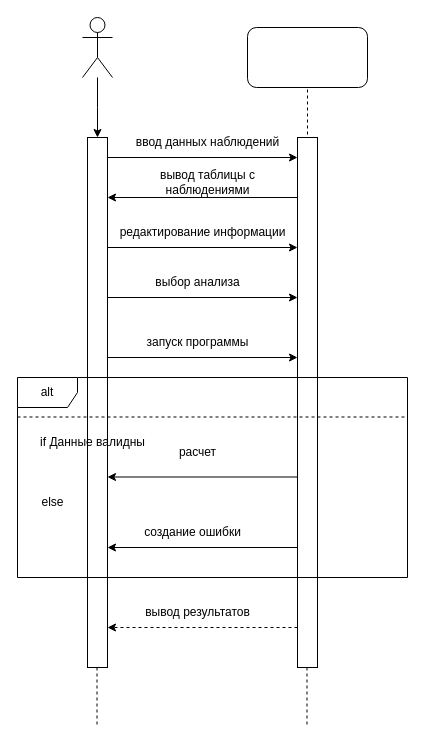
The diagram is 426 pixels wide and 746 high, and some of its shapes have lost their labels. Each missing label, with the centre of its shape:
:Приложение: the point at 307,57
Клиент: the point at 97,47
